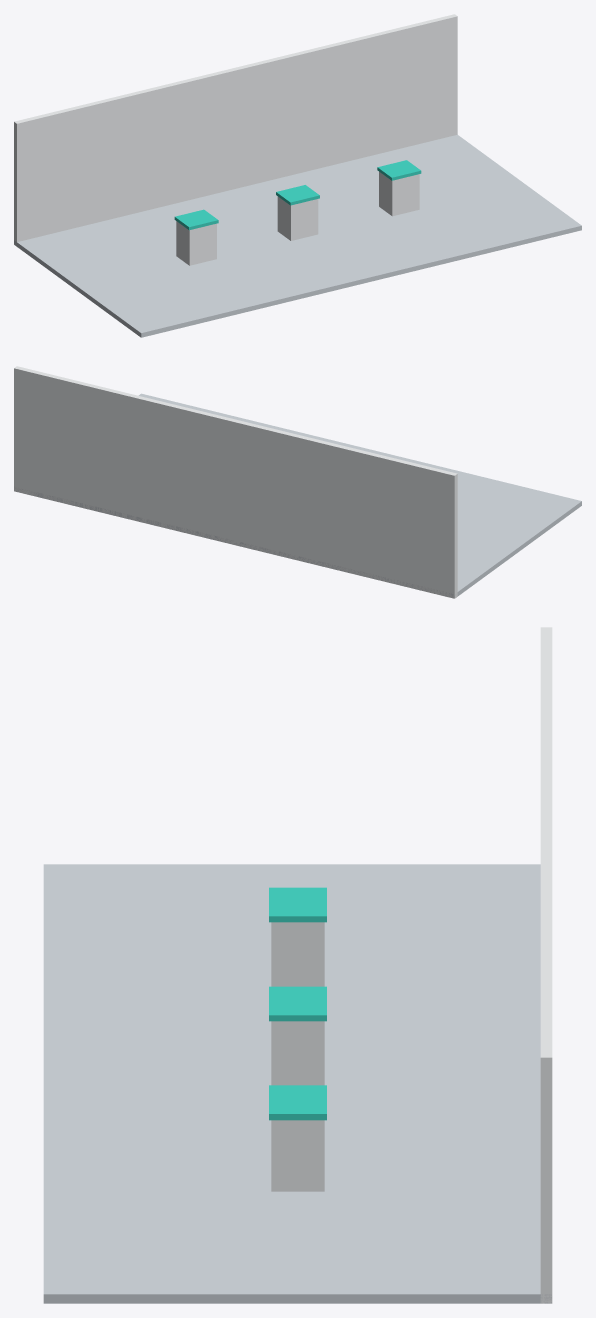
3 renders of one model, top to bottom at view 1: azimuth 30°, elevation 25°; view 2: azimuth 150°, elevation 25°; view 3: azimuth 270°, elevation 25°, orthographic. The views are drawn at different scales.
Parts seen in each view (by area): view 1: Exhibition Booth Concept; view 2: Exhibition Booth Concept; view 3: Exhibition Booth Concept.
Boxes of the visible parts, <box> form: Exhibition Booth Concept: <box>14,14,581,337</box>; Exhibition Booth Concept: <box>14,366,581,598</box>; Exhibition Booth Concept: <box>43,627,552,1303</box>.
Bounding box in the file's own units: 12 × 3.2 × 6.
